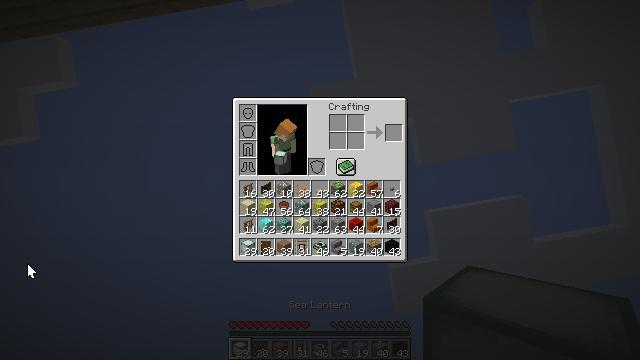cursor: (263, 27, 279, 37)
